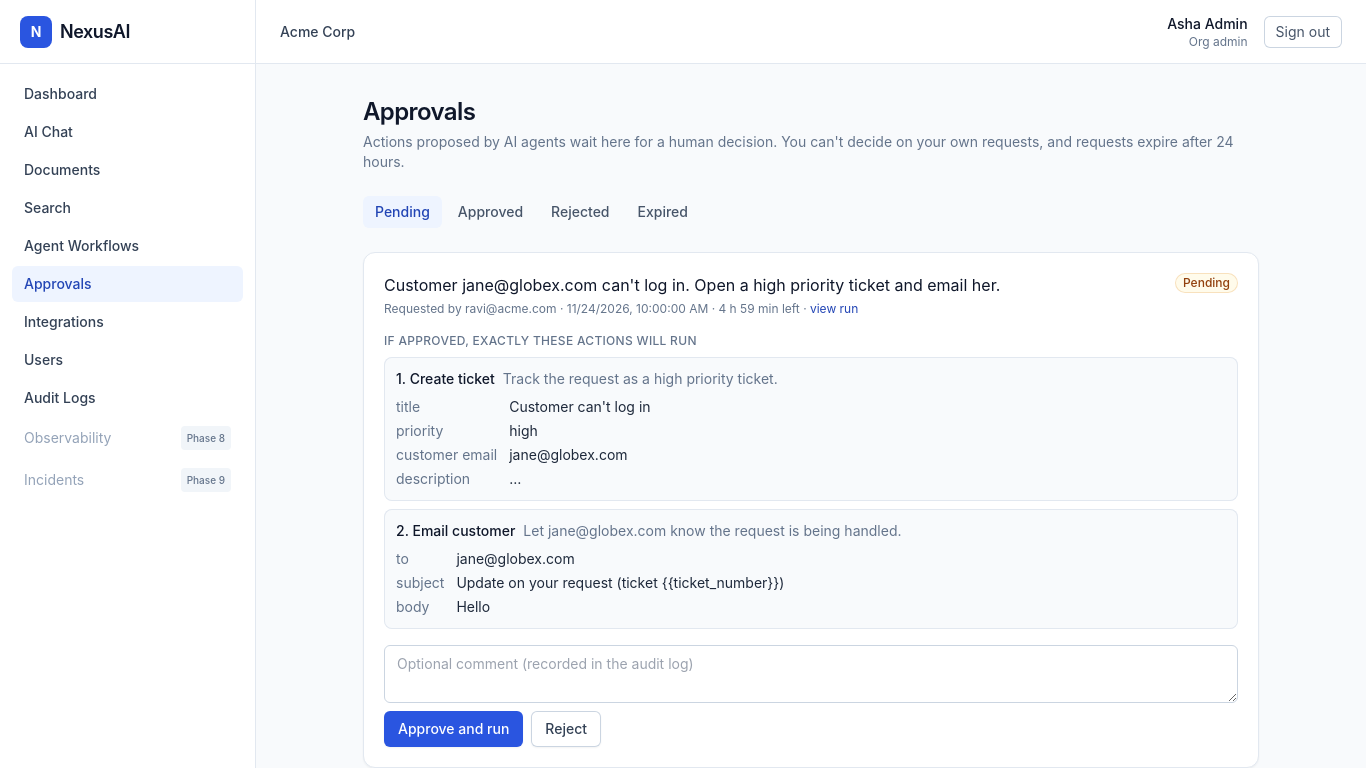
Test: Approvals › shows the server's reason when a decision is refused
Click the button "Reject" at (566, 729), box [531,711,601,747]
(page scrolled)
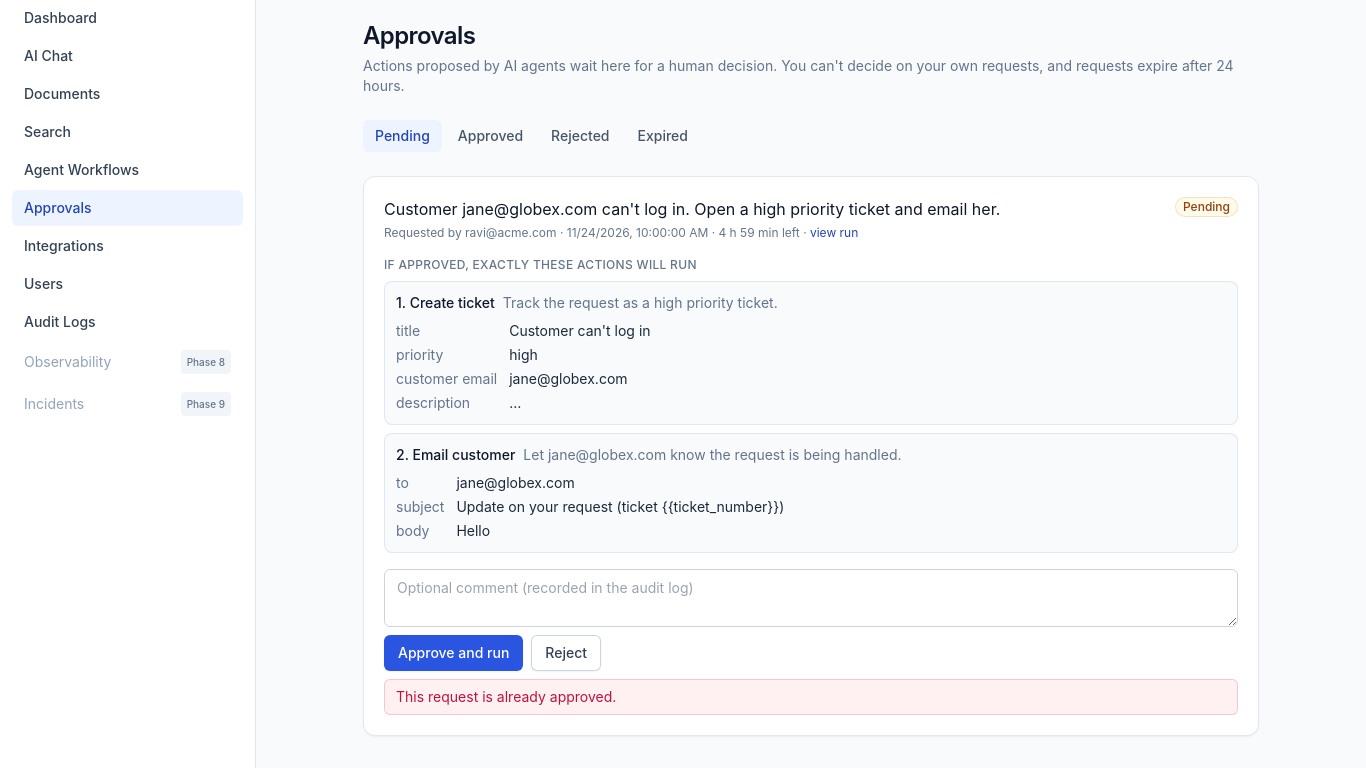
Check: the message shows "already approved", box [396,688,616,705]
